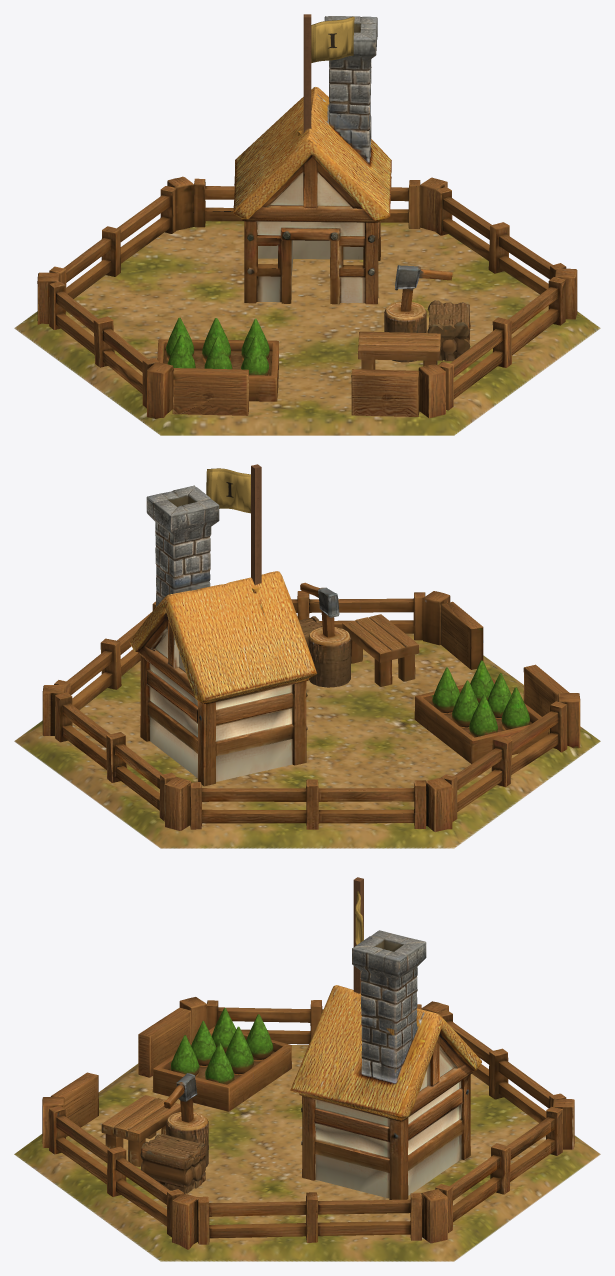
Rendered from workers-hut-1.glb.
3 renders of one model, top to bottom at view 1: azimuth 30°, elevation 25°; view 2: azimuth 150°, elevation 25°; view 3: azimuth 270°, elevation 25°, orthographic.
Parts seen in each view (by area): view 1: architecture, ground, tier-banner; view 2: architecture, ground, tier-banner; view 3: architecture, ground.
Boxes of the visible parts, x1,y1,x2,y2 form: architecture: (37, 14, 577, 418); ground: (14, 221, 600, 435); tier-banner: (311, 16, 354, 62); architecture: (42, 464, 580, 832); ground: (14, 633, 600, 848); tier-banner: (206, 468, 250, 513); architecture: (42, 877, 574, 1249); ground: (14, 1045, 600, 1261).
Size of the model in its own units: 1.59 by 0.9942 by 1.84.
3 materials, 3 textured.
